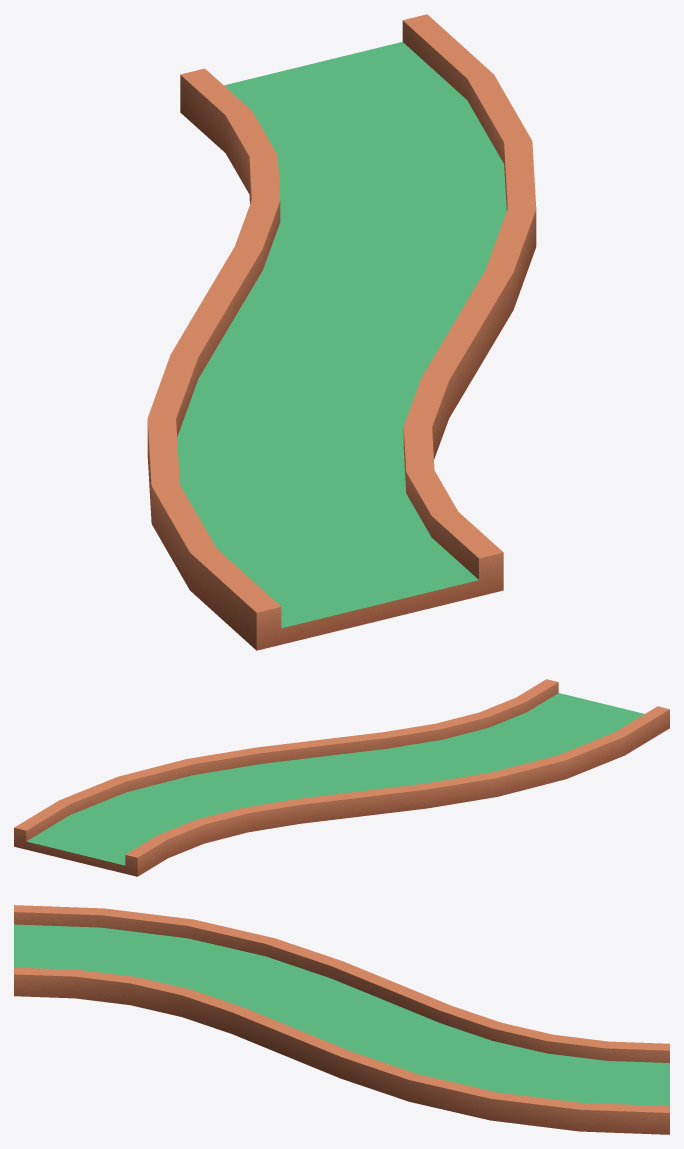
File: spline-default-curve.glb
3 renders of one model, top to bottom at view 1: azimuth 30°, elevation 25°; view 2: azimuth 150°, elevation 25°; view 3: azimuth 270°, elevation 25°, orthographic. The views are drawn at different scales.
Visible parts, largest first — view 1: spline-default-curve; view 2: spline-default-curve; view 3: spline-default-curve.
Part boxes in pixels (bbox=[...]): spline-default-curve: bbox=[147, 14, 536, 650]; spline-default-curve: bbox=[14, 679, 669, 876]; spline-default-curve: bbox=[14, 905, 669, 1134].
Bounding box in the file's own units: 3 × 0.1467 × 4.
Materials: 1 (1 with a texture image).
